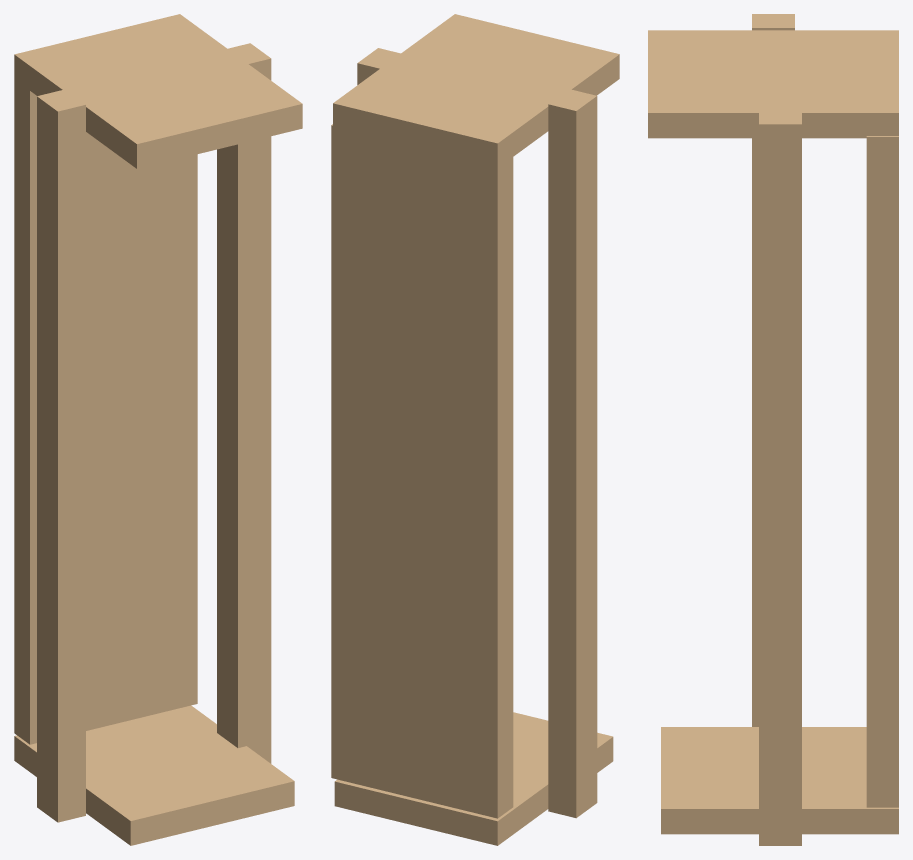
Rendered from tinker.obj.
3 renders of one model, left to right at view 1: azimuth 30°, elevation 25°; view 2: azimuth 150°, elevation 25°; view 3: azimuth 270°, elevation 25°, orthographic. The views are drawn at different scales.
Visible parts, largest first — view 1: obj_0; view 2: obj_0; view 3: obj_0.
Boxes of the visible parts, <box> form: obj_0: <box>14,14,302,845</box>; obj_0: <box>331,14,619,845</box>; obj_0: <box>648,14,898,845</box>.
Bounding box in the file's own units: 150 × 470 × 147.
